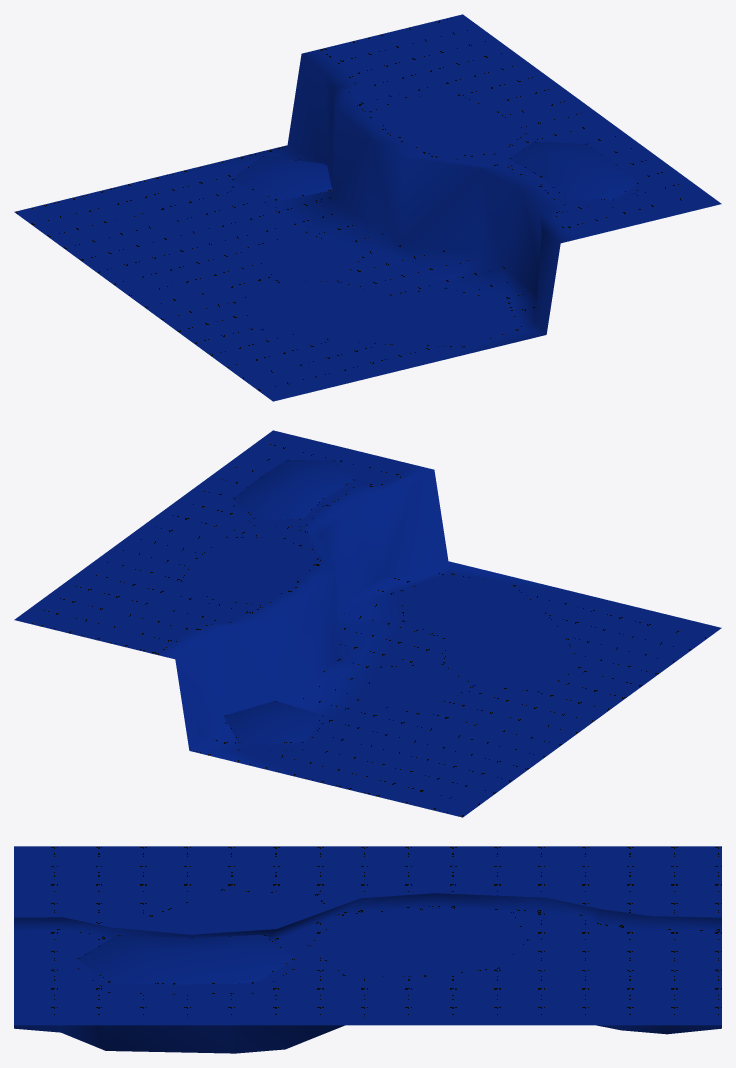
File: GRD_S_C6_1.fbx
3 views of the same model, one above another, from view 1: azimuth 30°, elevation 25°; view 2: azimuth 150°, elevation 25°; view 3: azimuth 270°, elevation 25° (orthographic). The views are drawn at different scales.
Visible parts, largest first — view 1: material_00022000, material_00052000, material_C0032000, material_C0012000, material_C0042000; view 2: material_00022000, material_00052000, material_C0032000, material_C0012000, material_C0042000; view 3: material_00022000, material_C0032000, material_00052000, material_C0012000, material_C0042000.
Part boxes in pixels (x1,y1,x2,y2): material_00022000: (14,14,721,401); material_00052000: (287,48,581,334); material_C0032000: (232,94,527,347); material_C0012000: (231,141,638,200); material_C0042000: (231,162,638,208); material_00022000: (14,430,721,817); material_00052000: (154,464,448,750); material_C0032000: (180,536,581,714); material_C0012000: (224,460,354,743); material_C0042000: (224,483,354,751); material_00022000: (14,846,721,1025); material_C0032000: (123,889,530,976); material_00052000: (14,893,721,1053); material_C0012000: (77,934,295,984); material_C0042000: (77,963,295,994).
Bounding box in the file's own units: 12800 × 2800 × 12800.
